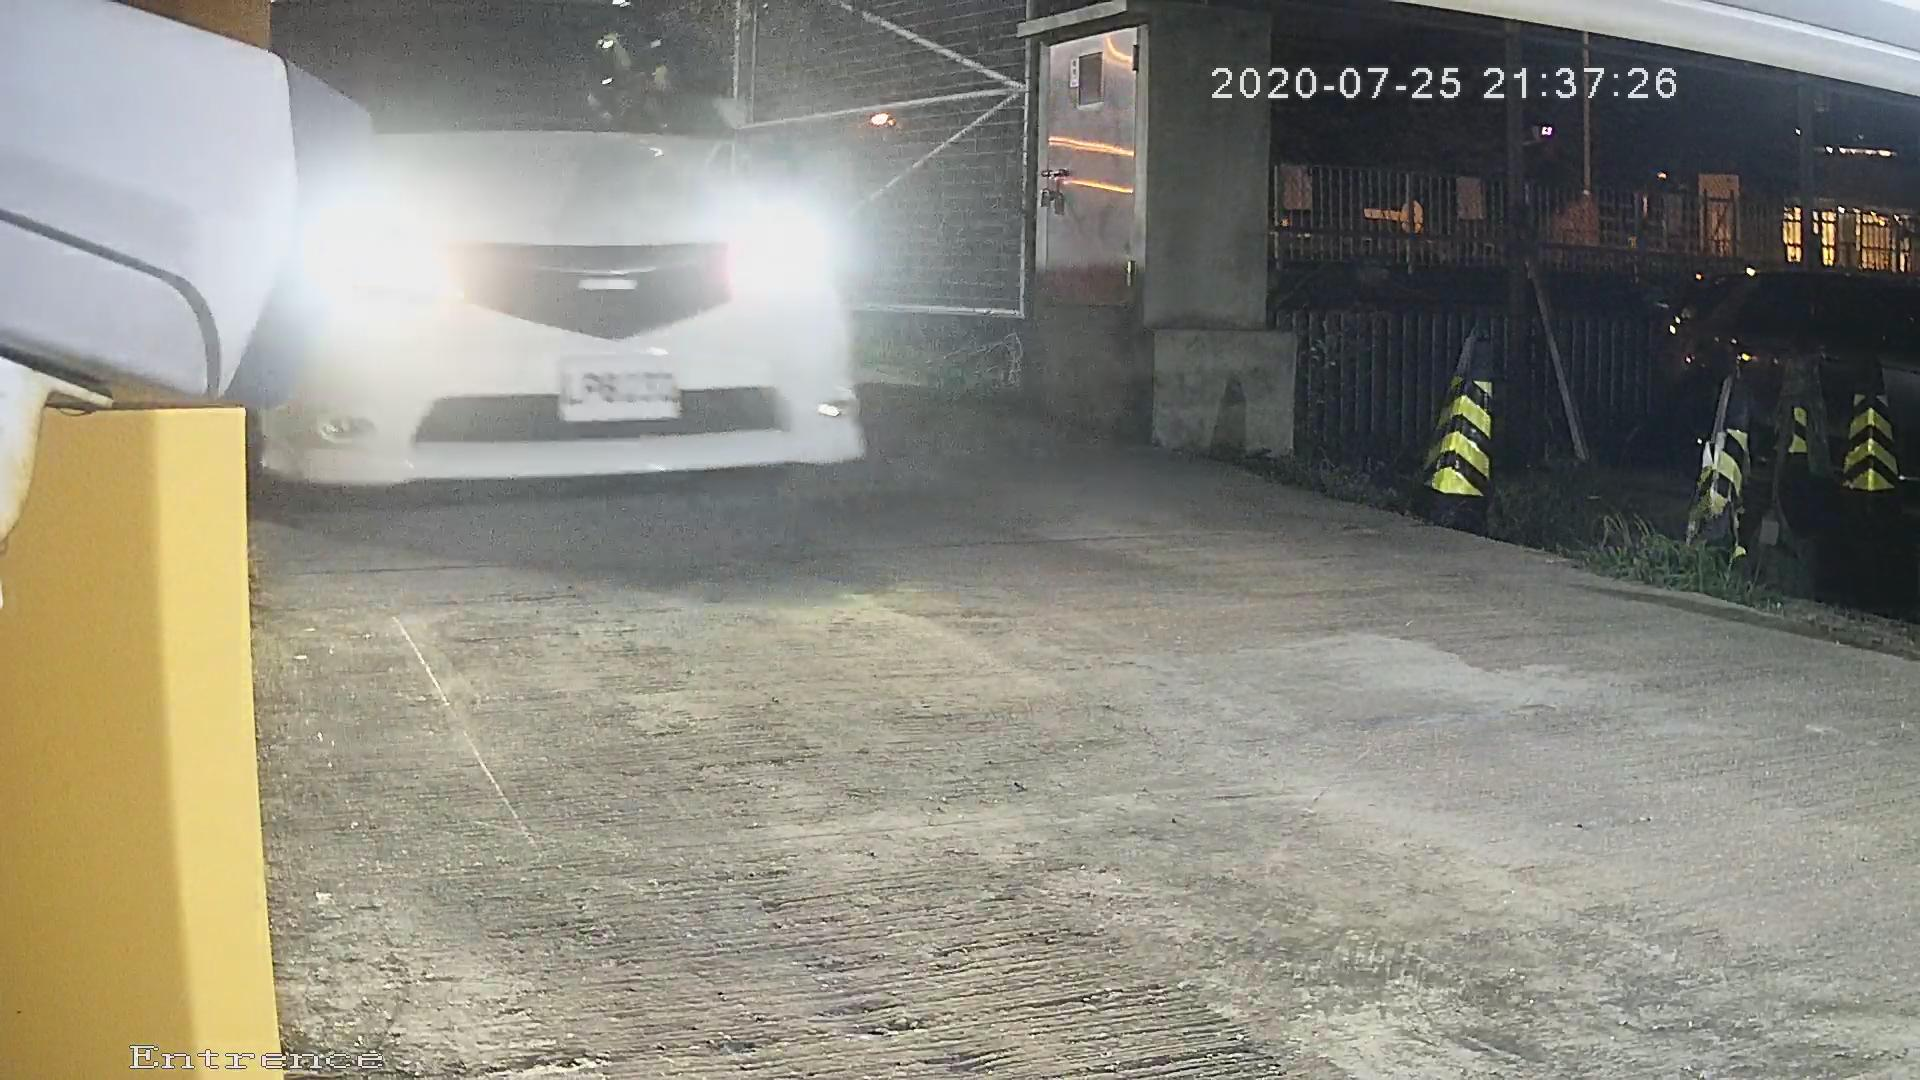License Plate: (539, 337, 713, 441)
